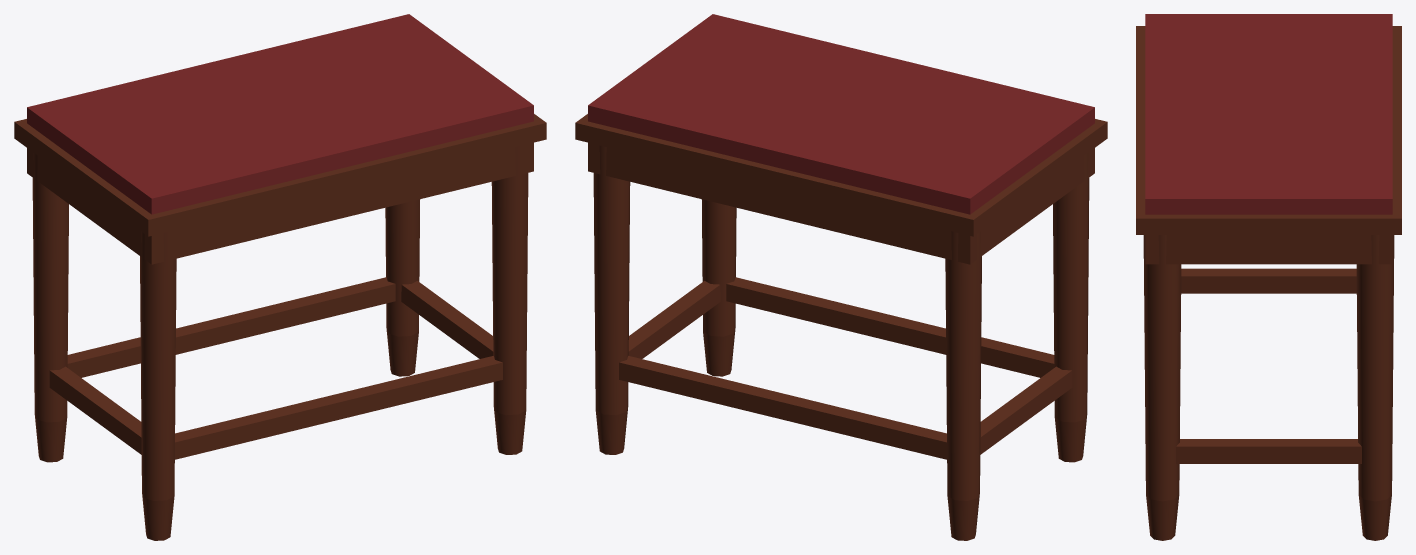
The model's file is parametric-piano-stool-2nd.glb.
3 views of the same model, side by side, from view 1: azimuth 30°, elevation 25°; view 2: azimuth 150°, elevation 25°; view 3: azimuth 270°, elevation 25° (orthographic).
Visible parts, largest first — view 1: parametric-piano-stool-2nd; view 2: parametric-piano-stool-2nd; view 3: parametric-piano-stool-2nd.
Part boxes in pixels (box(x1,y1,x2,y2)): parametric-piano-stool-2nd: box(14, 14, 546, 540); parametric-piano-stool-2nd: box(575, 14, 1107, 540); parametric-piano-stool-2nd: box(1136, 14, 1401, 540).
Size of the model in its own units: 0.6 by 0.5 by 0.35.
